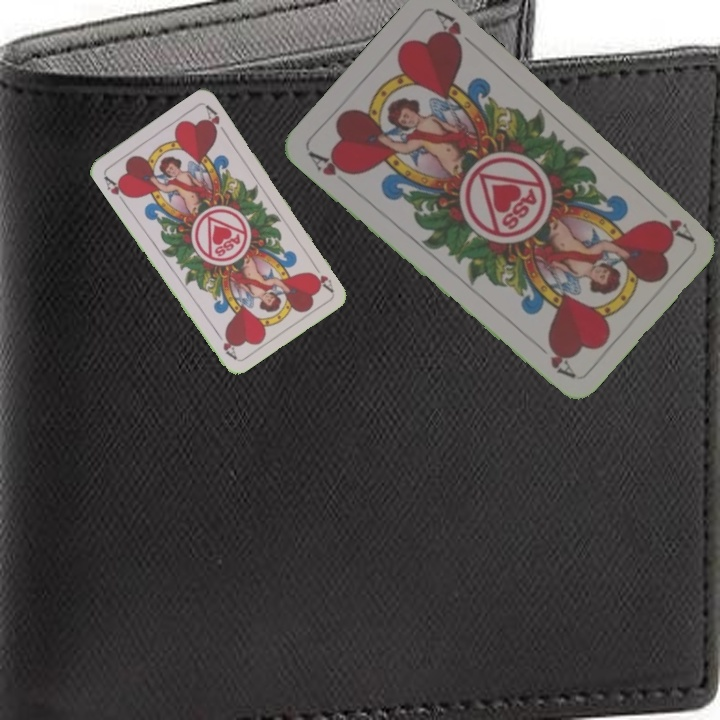HA: (304, 147, 357, 190), (649, 215, 695, 244), (100, 171, 133, 207), (306, 258, 336, 294)
